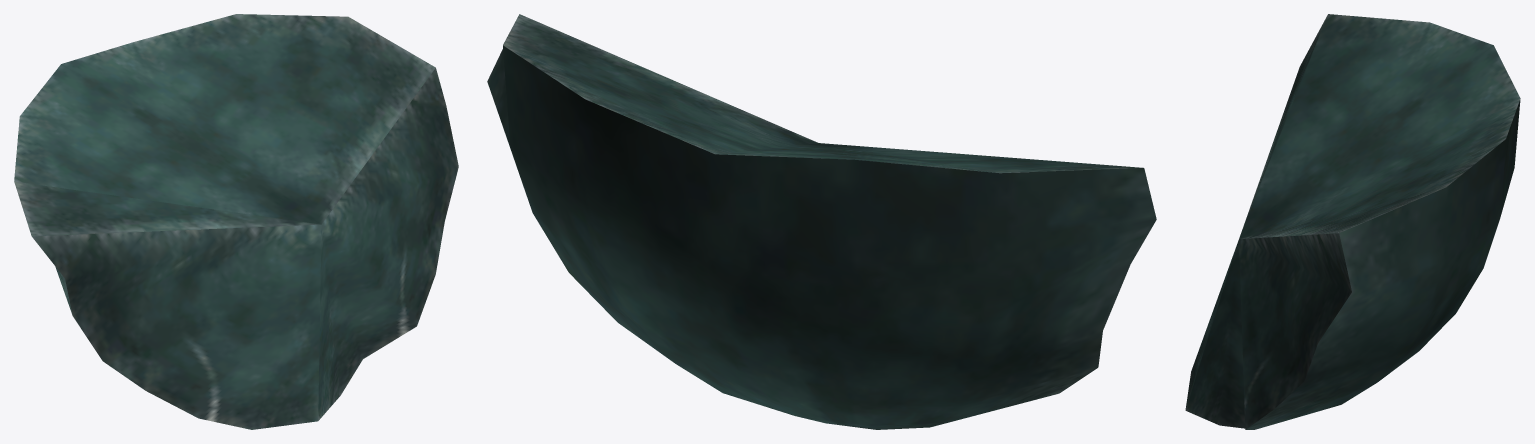
The model's file is orbpiece_turquoise.dae.
The picture shows the model from 3 angles, left to right: view 1: azimuth 30°, elevation 25°; view 2: azimuth 150°, elevation 25°; view 3: azimuth 270°, elevation 25°; orthographic projection. The views are drawn at different scales.
Parts seen in each view (by area): view 1: orb2; view 2: orb2; view 3: orb2.
Boxes of the visible parts, x1,y1,x2,y2 form: orb2: (14, 14, 458, 429); orb2: (487, 14, 1156, 429); orb2: (1185, 14, 1520, 429).
Bounding box in the file's own units: 0.3605 × 0.2199 × 0.2178.
